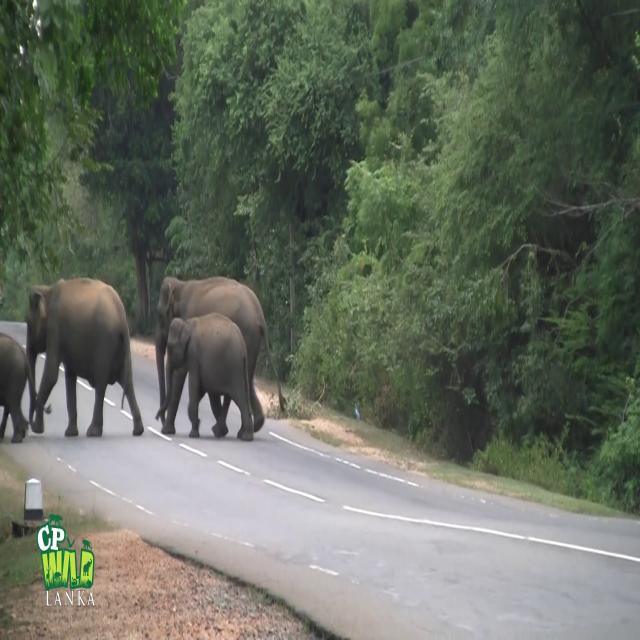Elephant: (154, 275, 286, 436), (24, 276, 144, 437), (0, 331, 39, 443)
